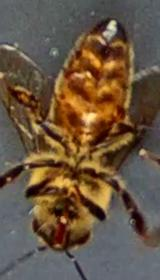varroa_mite: (61, 56, 99, 90), (108, 96, 128, 122)
